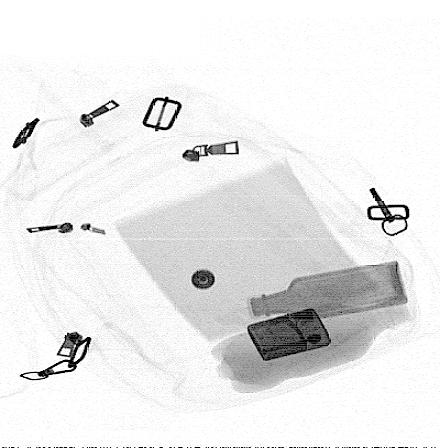Lighter: (247, 308, 332, 362)
